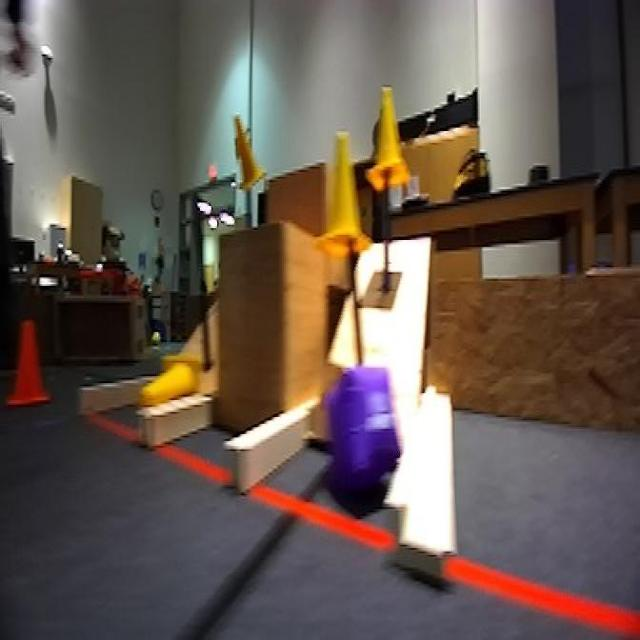frc_cone: (314, 119, 370, 255), (366, 87, 410, 192), (139, 357, 208, 412), (230, 114, 266, 191)
frc_cube: (322, 362, 402, 512)
